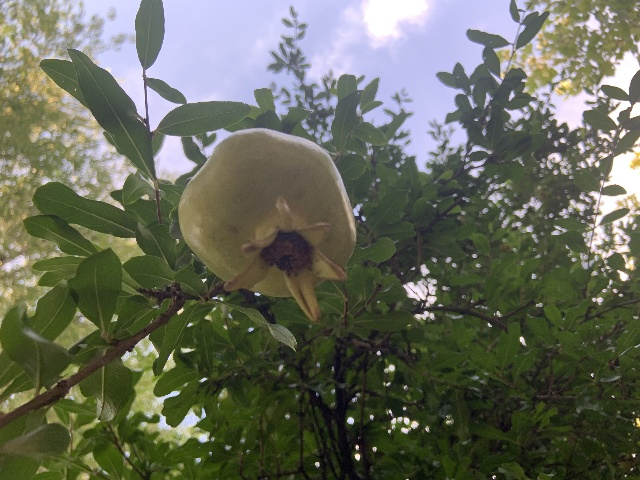mid-growth: (177, 128, 358, 323)
